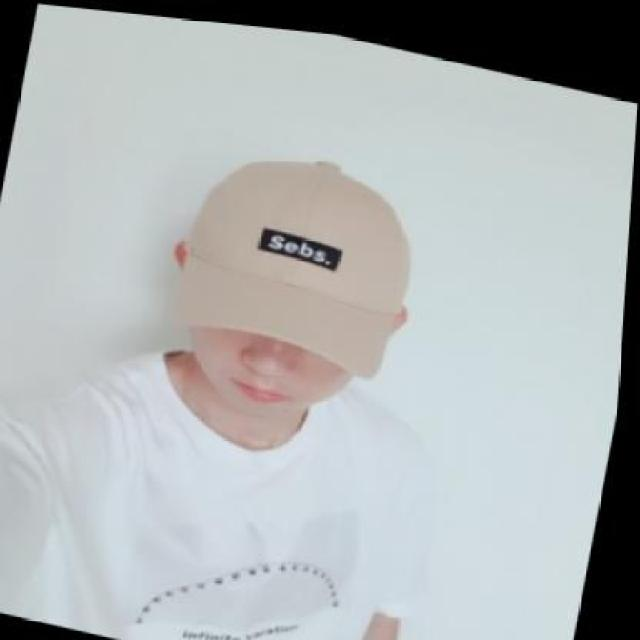hat: (163, 114, 443, 381)
